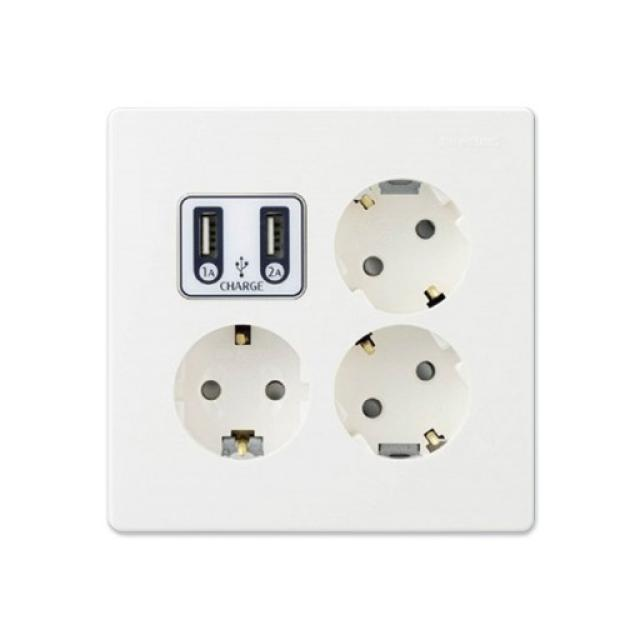typeb: (90, 93, 570, 560)
